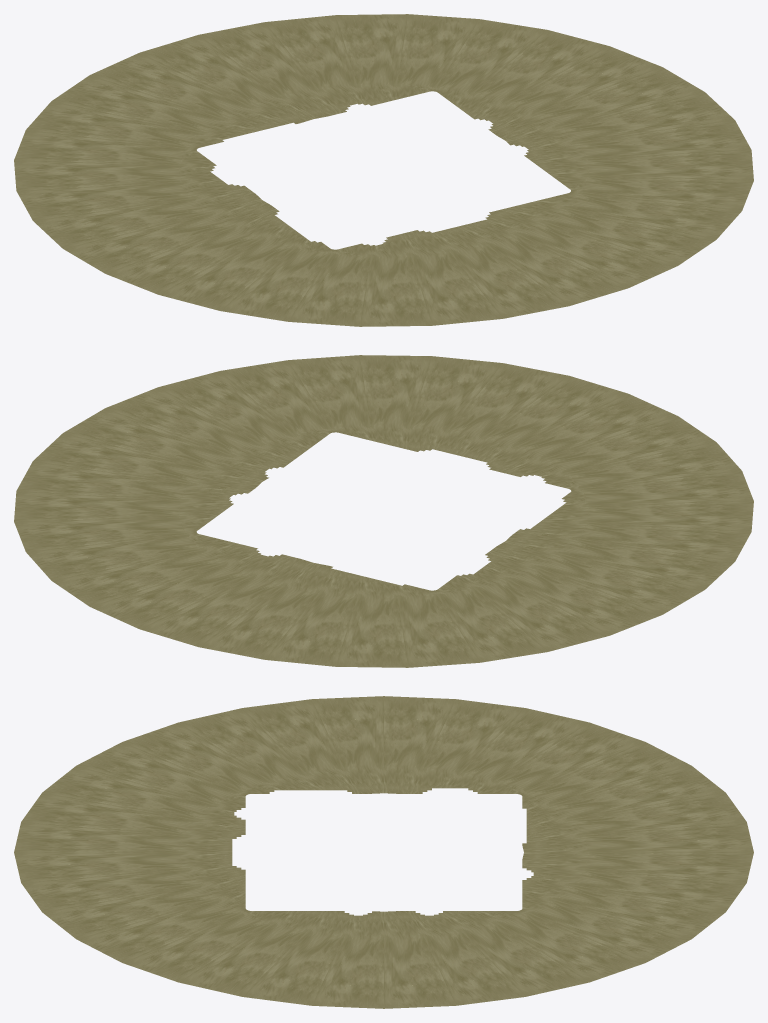
The model's file is waves11.fbx.
3 views of the same model, one above another, from view 1: azimuth 30°, elevation 25°; view 2: azimuth 150°, elevation 25°; view 3: azimuth 270°, elevation 25° (orthographic).
Parts seen in each view (by area): view 1: Circle; view 2: Circle; view 3: Circle.
Part boxes in pixels (x1,y1,x2,y2): Circle: (14, 14, 753, 326); Circle: (14, 355, 753, 667); Circle: (14, 696, 753, 1008).
Size of the model in its own units: 169 by 2.38e-07 by 169.
